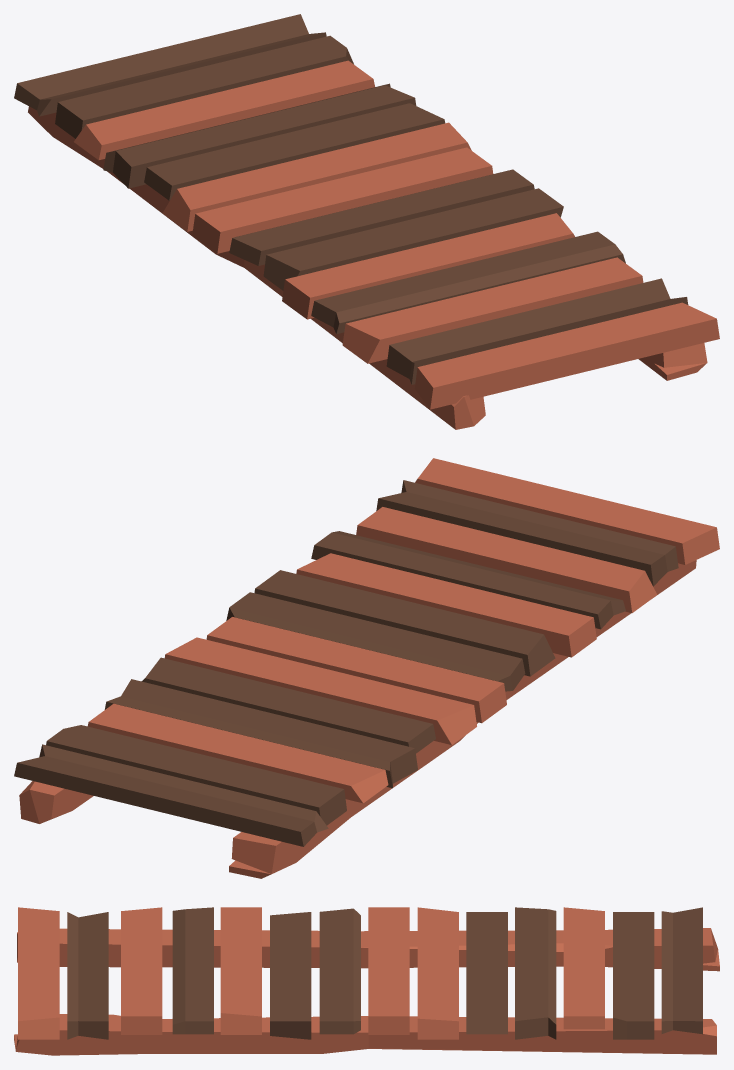
The model's file is Bridge.fbx.
The picture shows the model from 3 angles, top to bottom: view 1: azimuth 30°, elevation 25°; view 2: azimuth 150°, elevation 25°; view 3: azimuth 270°, elevation 25°; orthographic projection. The views are drawn at different scales.
Visible parts, largest first — view 1: SM_Env_Train_Track_Bridge_Top_01; view 2: SM_Env_Train_Track_Bridge_Top_01; view 3: SM_Env_Train_Track_Bridge_Top_01.
Part boxes in pixels (left/top/right/bottom): SM_Env_Train_Track_Bridge_Top_01: left=14, top=14, right=719, bottom=429; SM_Env_Train_Track_Bridge_Top_01: left=14, top=458, right=719, bottom=878; SM_Env_Train_Track_Bridge_Top_01: left=14, top=907, right=719, bottom=1055.
Bounding box in the file's own units: 393 × 61.83 × 1009.
